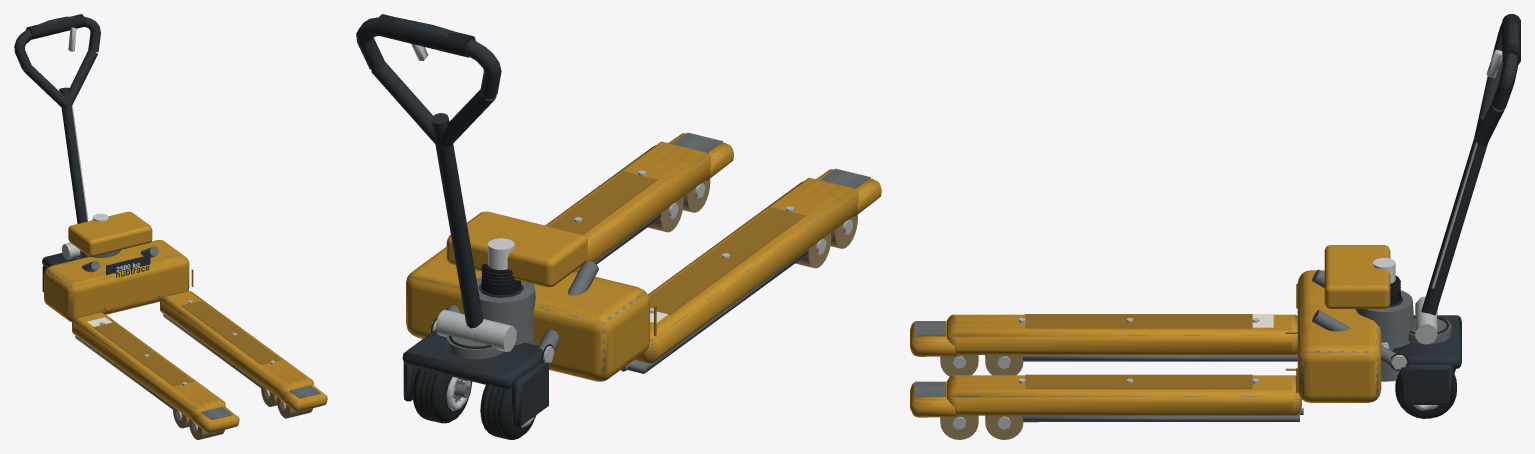
File: pallet-jack.glb
The picture shows the model from 3 angles, left to right: view 1: azimuth 30°, elevation 25°; view 2: azimuth 150°, elevation 25°; view 3: azimuth 270°, elevation 25°; orthographic projection. The views are drawn at different scales.
Parts seen in each view (by area): view 1: hubtrace_ManualPalletJack_equipment_contact_worn_ochre, steering_yoke_equipment_charcoal_enamel, hubtrace_ManualPalletJack_equipment_panel_edge, hubtrace_ManualPalletJack_equipment_powder_coat_ochre, steering_wheel_equipment_burnished_steel, steering_wheel_equipment_brushed_steel, hubtrace_ManualPalletJack_load_roller_polyurethane, steering_wheel_equipment_tyre_rubber, hubtrace_ManualPalletJack_jack_capacity_plate-ink; view 2: hubtrace_ManualPalletJack_equipment_contact_worn_ochre, steering_yoke_equipment_charcoal_enamel, hubtrace_ManualPalletJack_equipment_panel_edge, steering_wheel_equipment_burnished_steel, hubtrace_ManualPalletJack_equipment_powder_coat_ochre, steering_wheel_equipment_tyre_rubber, steering_wheel_equipment_brushed_steel, hubtrace_ManualPalletJack_load_roller_polyurethane, steering_wheel_equipment_dark_polymer, hubtrace_ManualPalletJack_hydraulic_hard_chrome; view 3: hubtrace_ManualPalletJack_equipment_contact_worn_ochre, steering_yoke_equipment_charcoal_enamel, steering_wheel_equipment_burnished_steel, hubtrace_ManualPalletJack_equipment_panel_edge, hubtrace_ManualPalletJack_equipment_powder_coat_ochre, steering_wheel_equipment_brushed_steel, hubtrace_ManualPalletJack_load_roller_polyurethane, steering_wheel_equipment_tyre_rubber.
Boxes of the visible parts, <box> form: hubtrace_ManualPalletJack_equipment_contact_worn_ochre: <box>44,240,327,433</box>; steering_yoke_equipment_charcoal_enamel: <box>14,16,100,292</box>; hubtrace_ManualPalletJack_equipment_panel_edge: <box>69,269,281,386</box>; hubtrace_ManualPalletJack_equipment_powder_coat_ochre: <box>68,211,152,256</box>; steering_wheel_equipment_burnished_steel: <box>70,246,320,419</box>; steering_wheel_equipment_brushed_steel: <box>62,27,285,431</box>; hubtrace_ManualPalletJack_load_roller_polyurethane: <box>173,386,312,439</box>; steering_wheel_equipment_tyre_rubber: <box>26,14,85,39</box>; hubtrace_ManualPalletJack_jack_capacity_plate-ink: <box>106,255,150,275</box>; hubtrace_ManualPalletJack_equipment_contact_worn_ochre: <box>406,133,881,381</box>; steering_yoke_equipment_charcoal_enamel: <box>356,17,548,427</box>; hubtrace_ManualPalletJack_equipment_panel_edge: <box>549,171,805,335</box>; steering_wheel_equipment_burnished_steel: <box>446,132,870,402</box>; hubtrace_ManualPalletJack_equipment_powder_coat_ochre: <box>446,211,587,287</box>; steering_wheel_equipment_tyre_rubber: <box>375,14,536,439</box>; steering_wheel_equipment_brushed_steel: <box>411,44,852,427</box>; hubtrace_ManualPalletJack_load_roller_polyurethane: <box>647,179,857,268</box>; steering_wheel_equipment_dark_polymer: <box>417,263,521,438</box>; hubtrace_ManualPalletJack_hydraulic_hard_chrome: <box>487,238,514,269</box>; hubtrace_ManualPalletJack_equipment_contact_worn_ochre: <box>910,270,1381,417</box>; steering_yoke_equipment_charcoal_enamel: <box>1388,19,1518,405</box>; steering_wheel_equipment_burnished_steel: <box>916,269,1451,422</box>; hubtrace_ManualPalletJack_equipment_panel_edge: <box>1025,284,1298,392</box>; hubtrace_ManualPalletJack_equipment_powder_coat_ochre: <box>1324,245,1390,308</box>; steering_wheel_equipment_brushed_steel: <box>952,49,1502,429</box>; hubtrace_ManualPalletJack_load_roller_polyurethane: <box>940,355,1023,439</box>; steering_wheel_equipment_tyre_rubber: <box>1390,14,1520,418</box>.
Bounding box in the file's own units: 0.6729 × 1.37 × 2.04.
Materials: 15 (12 with a texture image).
